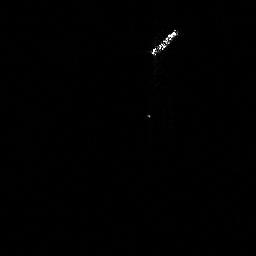ship: (147, 25, 183, 59)
